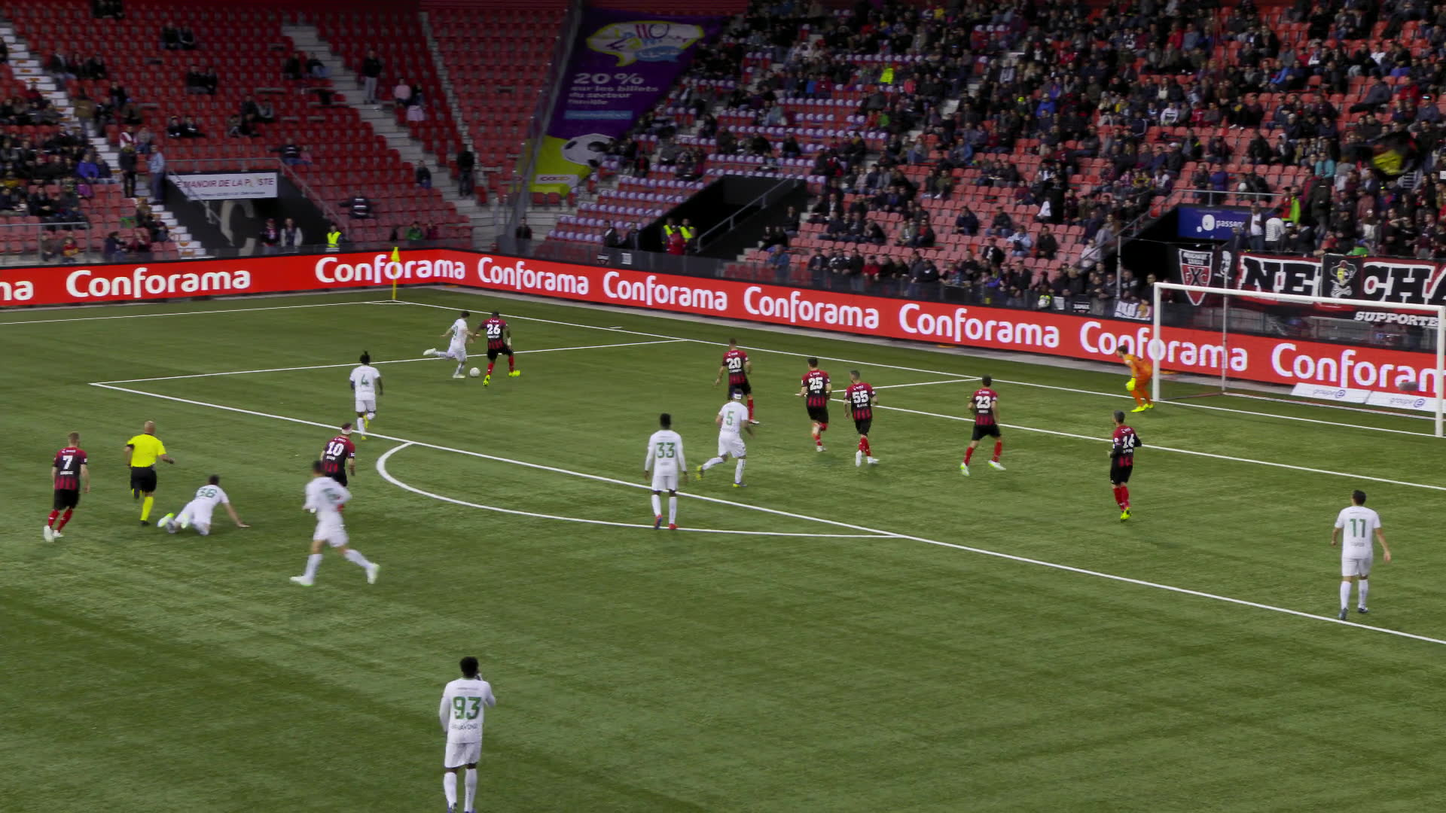ball: (471, 367, 480, 376)
player: (438, 656, 498, 812), (310, 460, 378, 586), (1334, 486, 1390, 617), (691, 385, 752, 486), (645, 413, 691, 531), (163, 473, 249, 534), (43, 430, 87, 541), (959, 375, 1006, 477), (1107, 411, 1141, 520), (471, 312, 521, 386), (717, 338, 759, 423), (844, 370, 880, 466), (795, 355, 830, 450), (427, 309, 474, 377), (319, 424, 355, 509), (351, 351, 384, 437), (1116, 345, 1152, 410)
referee: (125, 420, 174, 525)
